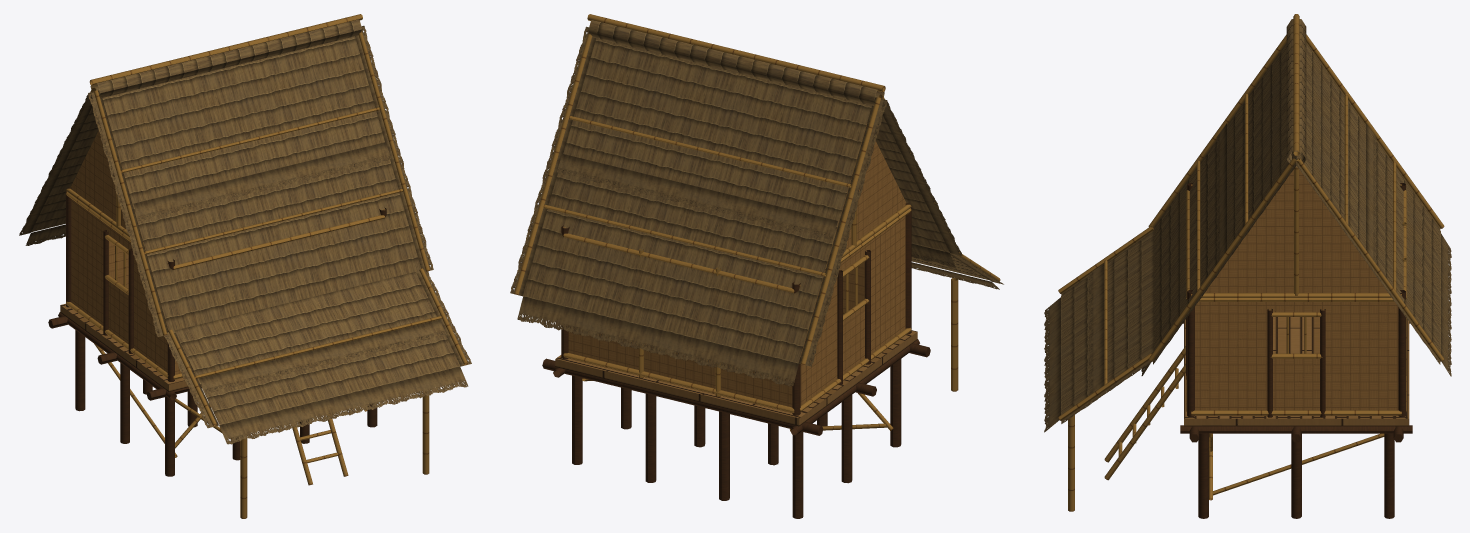
3 views of the same model, side by side, from view 1: azimuth 30°, elevation 25°; view 2: azimuth 150°, elevation 25°; view 3: azimuth 270°, elevation 25° (orthographic). The views are drawn at different scales.
Visible parts, largest first — view 1: hut_kankanaey_0; view 2: hut_kankanaey_0; view 3: hut_kankanaey_0.
Boxes of the visible parts, bbox=[...] form: hut_kankanaey_0: bbox=[19, 14, 471, 518]; hut_kankanaey_0: bbox=[510, 14, 1003, 518]; hut_kankanaey_0: bbox=[1044, 14, 1451, 518].
Size of the model in its own units: 4.86 by 6.01 by 5.93.
Materials: 6 (6 with a texture image).
